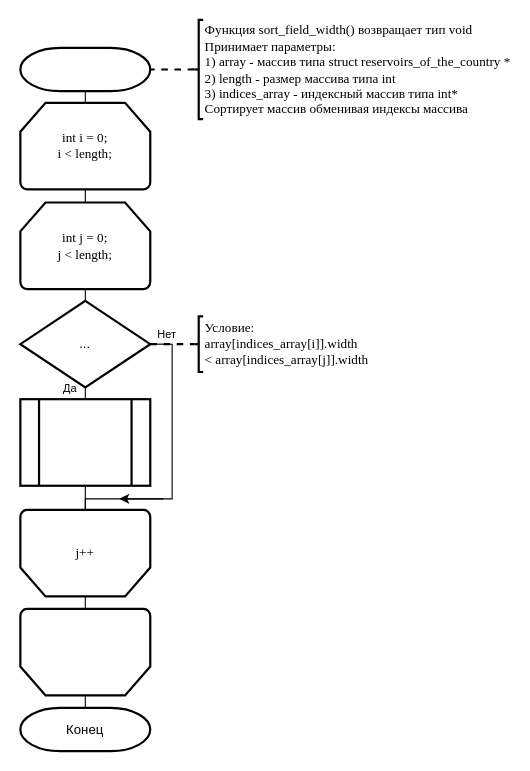
This 530x771 diagram has some shape labels left out. Here are the shapes that lost their labels. From the top down, the centre of each, then its label:
At pixel 85 69: "void sort_field _width()".
At pixel 85 442: "int_swap( &indices_array[i], &indices_array[j] )".
At pixel 85 651: "i++".
